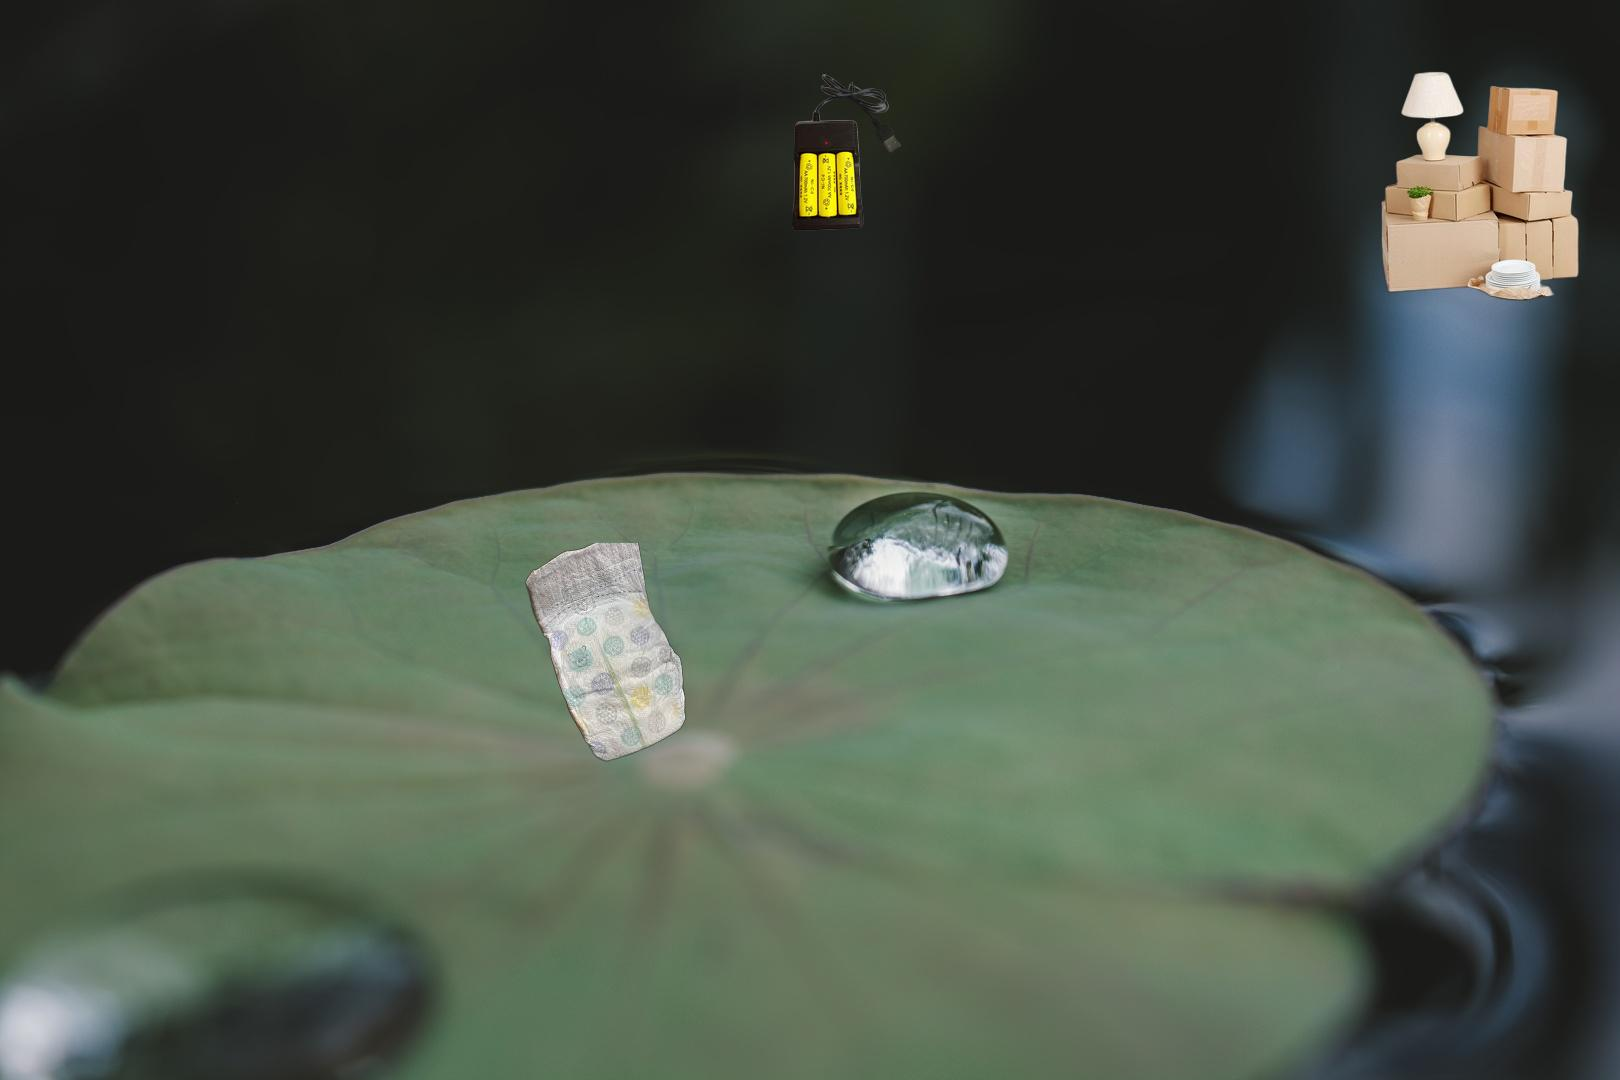battery: (790, 71, 905, 234)
trash: (523, 542, 688, 764)
trashbox-cardboard: (1379, 70, 1583, 303)
